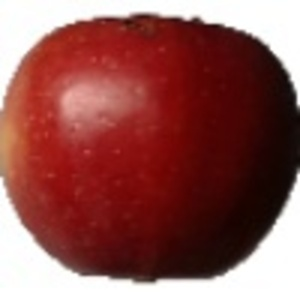maçã braeburn: (1, 10, 298, 288)
